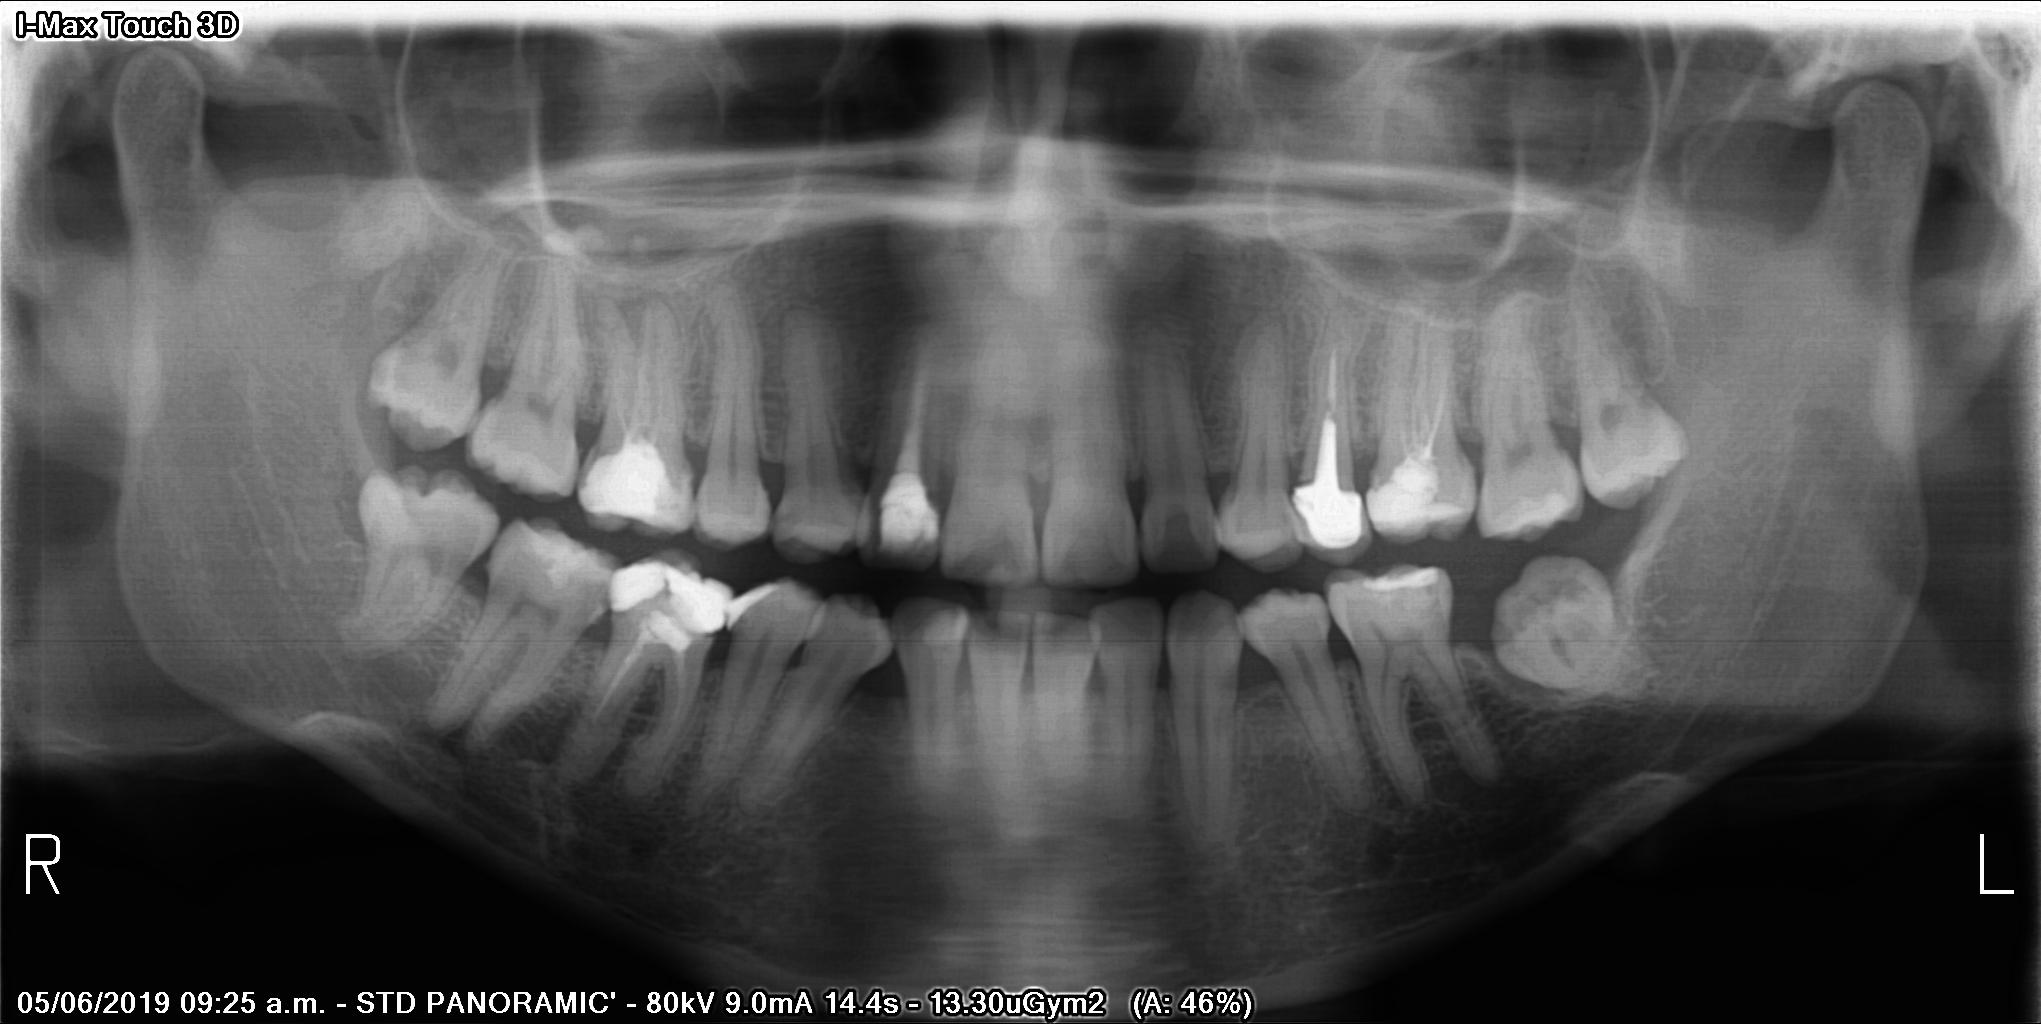Çürük: (599, 554, 736, 653), (573, 427, 684, 533), (1289, 411, 1367, 559), (1361, 445, 1473, 537), (870, 461, 953, 556), (716, 568, 785, 627), (1358, 562, 1453, 602)
